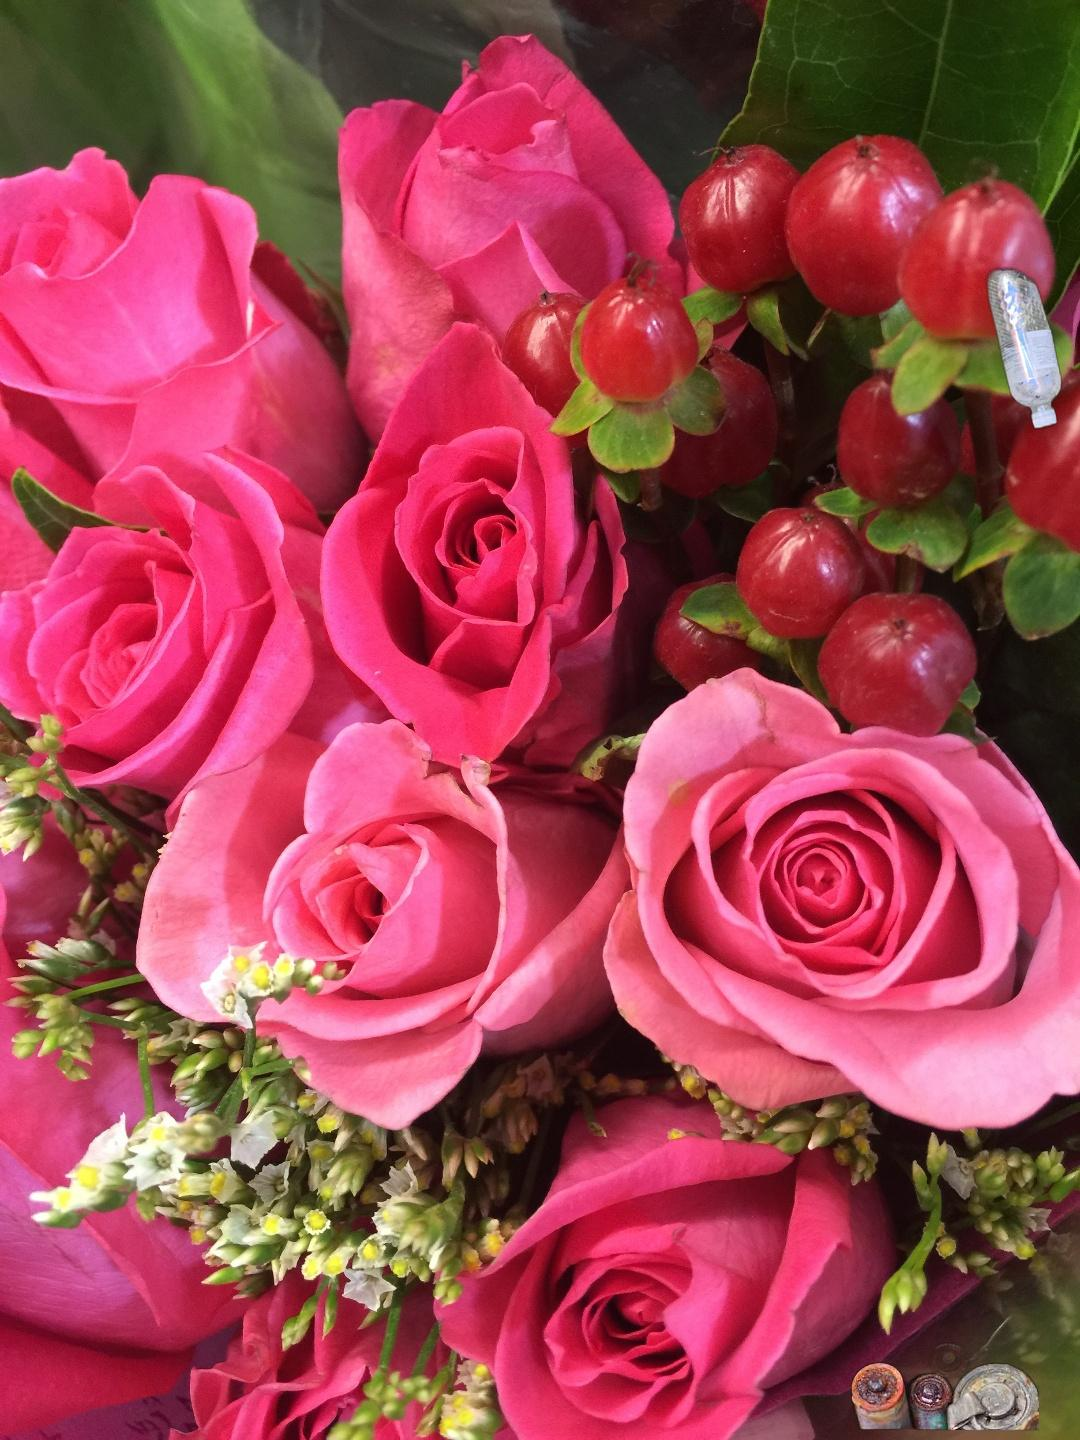battery: (807, 1274, 1039, 1440)
plastic-bottles: (982, 263, 1080, 620)
